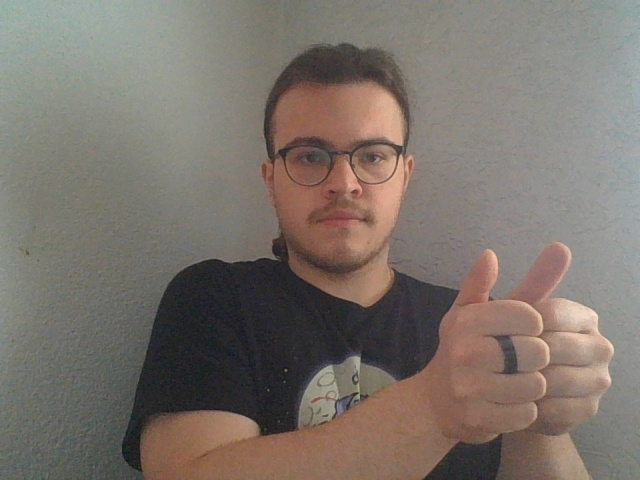Agree: (433, 241, 616, 445)
